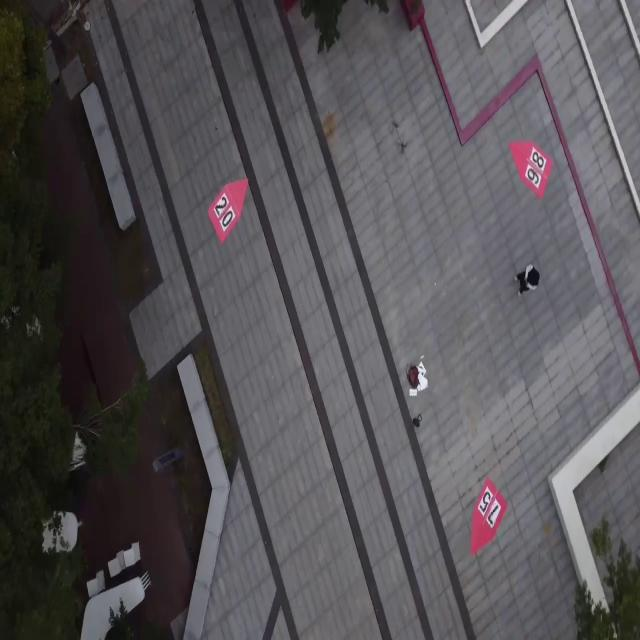-sign-: (470, 478, 507, 558), (206, 177, 248, 244), (510, 139, 552, 198)
